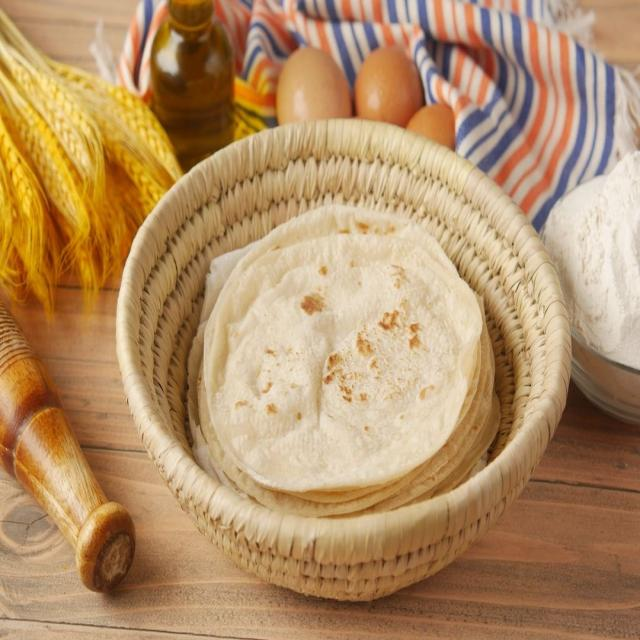ROTI: (203, 208, 484, 494)
